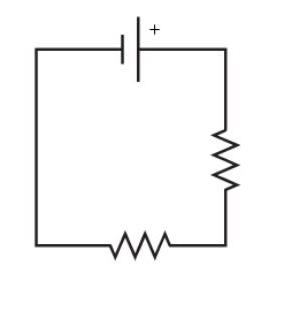resistor: (197, 107, 249, 198), (94, 219, 185, 266)
